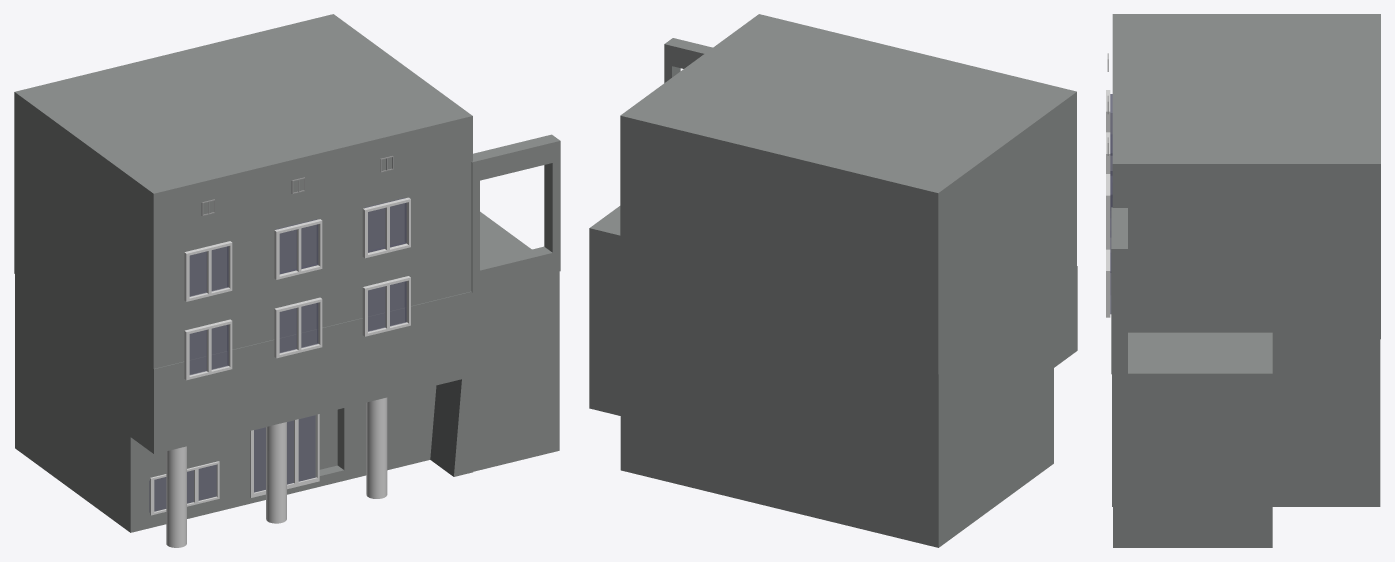
Rendered from ConstructionBulldLeft.fbx.
The picture shows the model from 3 angles, left to right: view 1: azimuth 30°, elevation 25°; view 2: azimuth 150°, elevation 25°; view 3: azimuth 270°, elevation 25°; orthographic projection. The views are drawn at different scales.
Parts seen in each view (by area): view 1: pCube5, pCube19, pCube7, pCube27, pCylinder1, pCylinder2, pCylinder3, pCube22, pCube25, pCube23, pCube24, pCube21 (+10 smaller); view 2: pCube5, pCube19, pCube7; view 3: pCube5, pCube19, pCube7, window5.
Boxes of the visible parts, x1=… form: pCube5: x1=14, y1=14, x2=472, y2=375; pCube19: x1=15, y1=211, x2=559, y2=532; pCube7: x1=471, y1=134, x2=560, y2=292; pCube27: x1=254, y1=415, x2=315, y2=492; pCylinder1: x1=366, y1=397, x2=387, y2=498; pCylinder2: x1=266, y1=422, x2=286, y2=523; pCylinder3: x1=166, y1=446, x2=186, y2=547; pCube22: x1=276, y1=219, x2=318, y2=274; pCube25: x1=189, y1=324, x2=228, y2=375; pCube23: x1=279, y1=302, x2=318, y2=353; pCube24: x1=189, y1=246, x2=228, y2=296; pCube21: x1=365, y1=198, x2=406, y2=252; pCube5: x1=620, y1=14, x2=1076, y2=374; pCube19: x1=589, y1=206, x2=1077, y2=547; pCube7: x1=664, y1=38, x2=712, y2=82; pCube5: x1=1112, y1=14, x2=1380, y2=339; pCube19: x1=1112, y1=332, x2=1380, y2=547; pCube7: x1=1111, y1=207, x2=1127, y2=374; window5: x1=1106, y1=249, x2=1110, y2=317.
Bounding box in the file's own units: 22.93 × 19.57 × 13.95.
